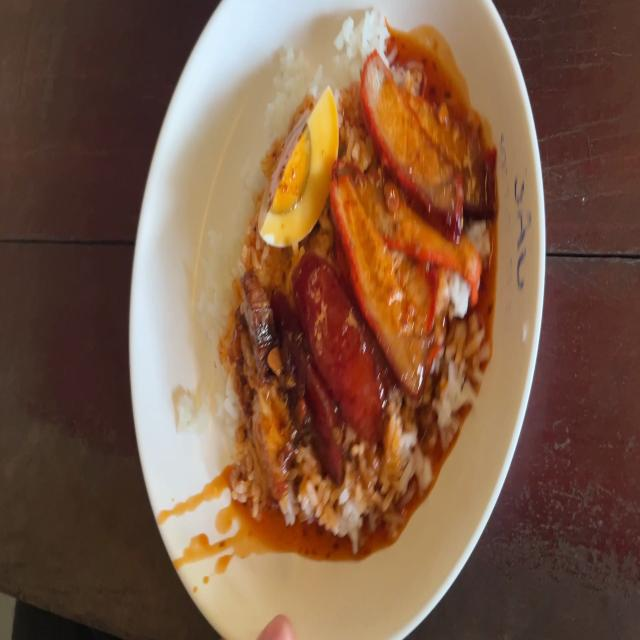01boiled_egg: (263, 96, 335, 240)
01chainese_sausage: (292, 260, 375, 481)
01crispy_pork: (241, 277, 288, 478)
01red_pork: (343, 64, 475, 358)
01red_pork_and_crispy_pork: (209, 19, 493, 546)
01rice: (273, 477, 395, 542), (379, 407, 443, 527)
